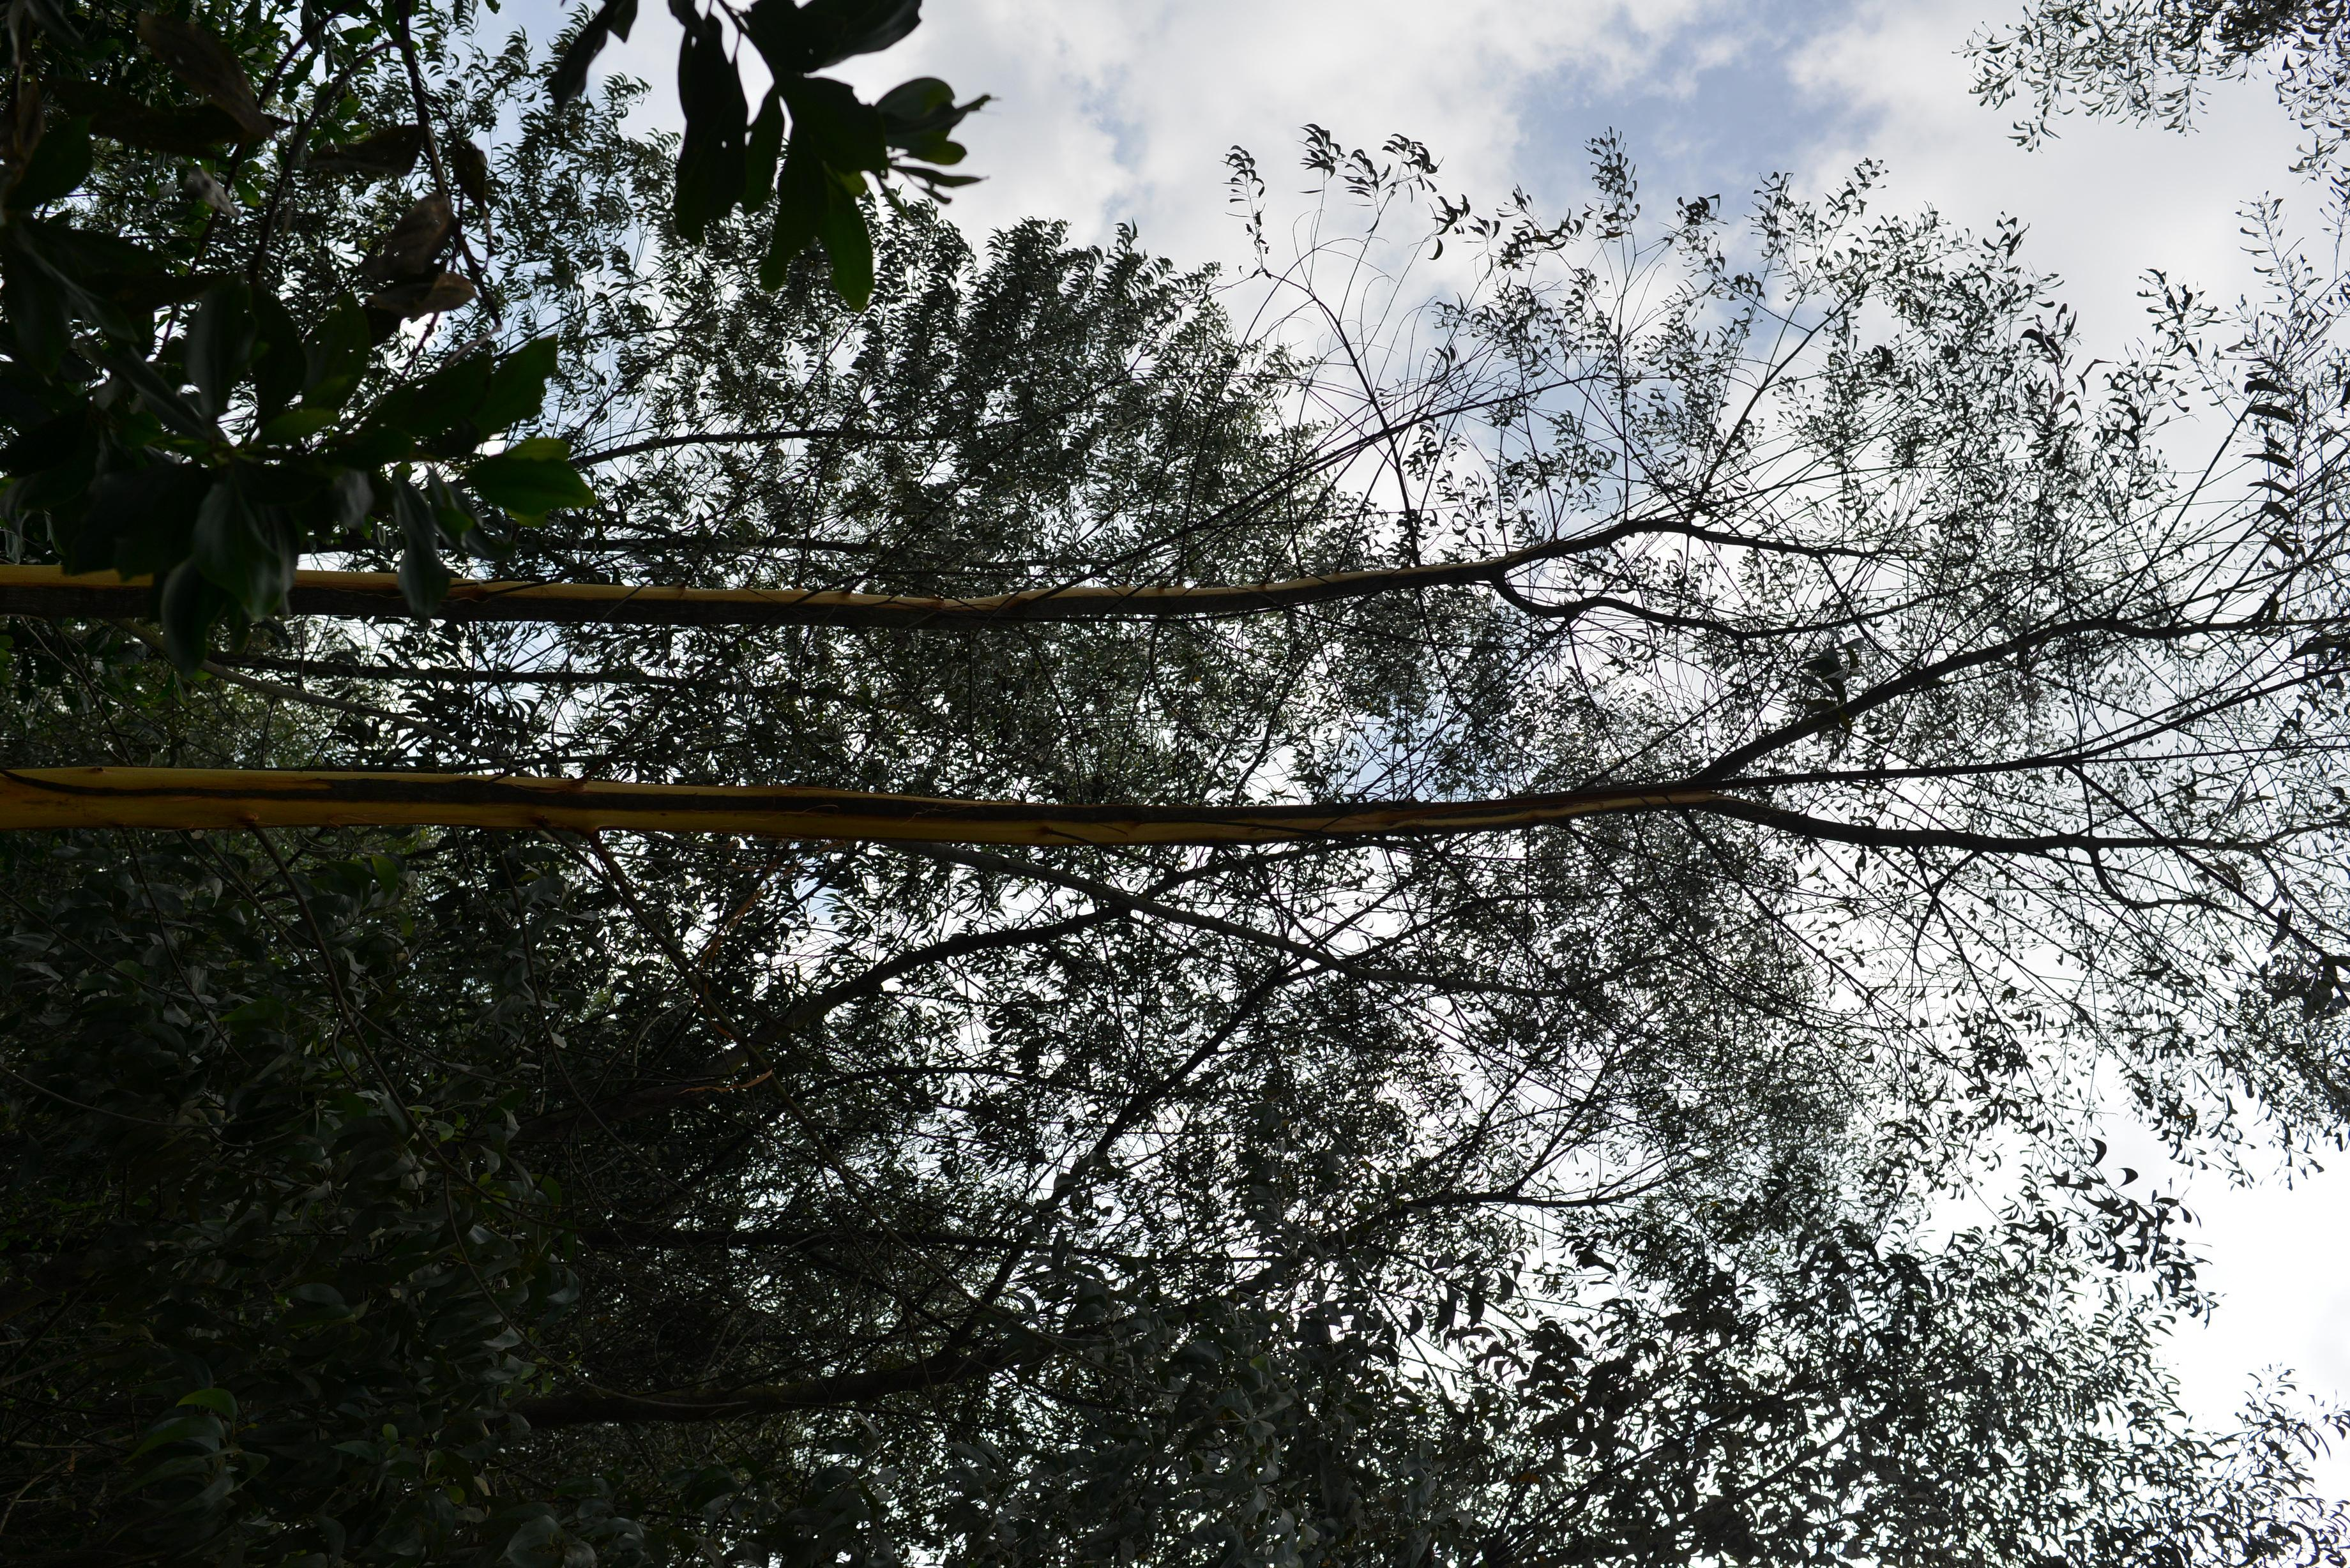Mammals Attack: (10, 763, 1689, 870), (7, 549, 1496, 623)
